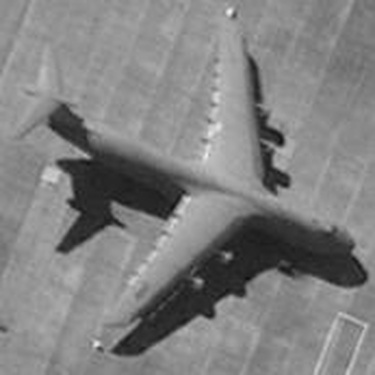airplane: (9, 6, 361, 362)
